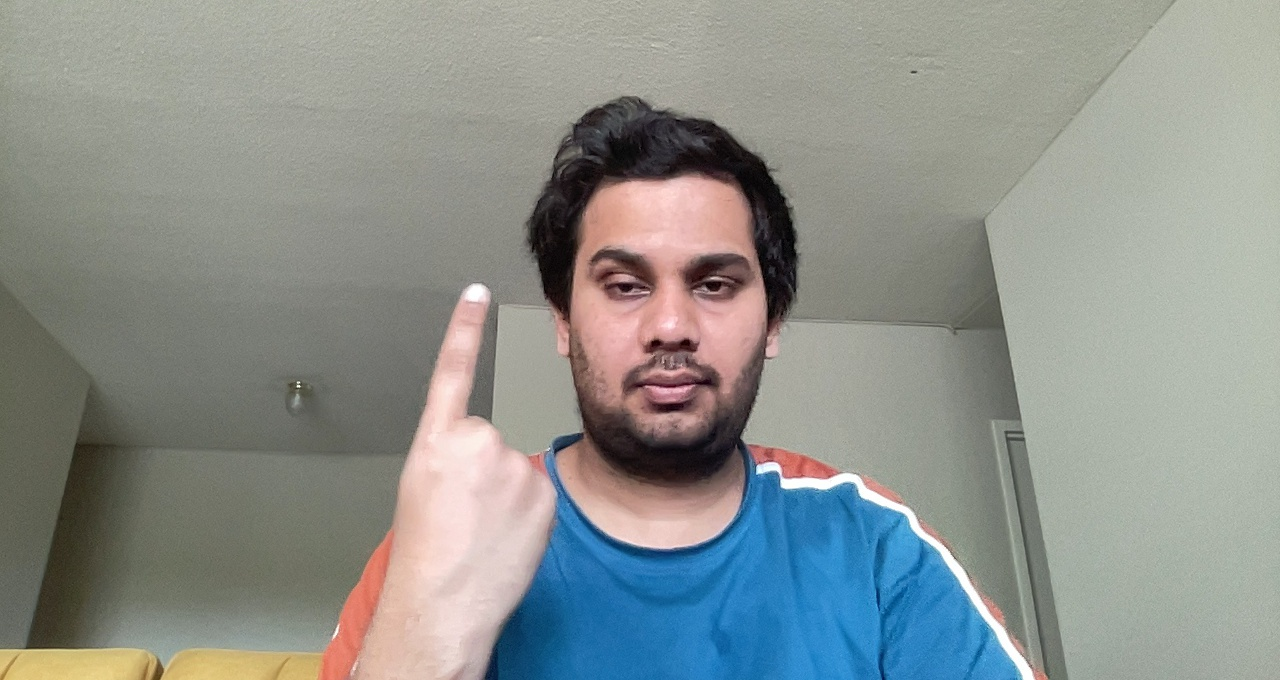fingerup: (384, 277, 562, 627)
